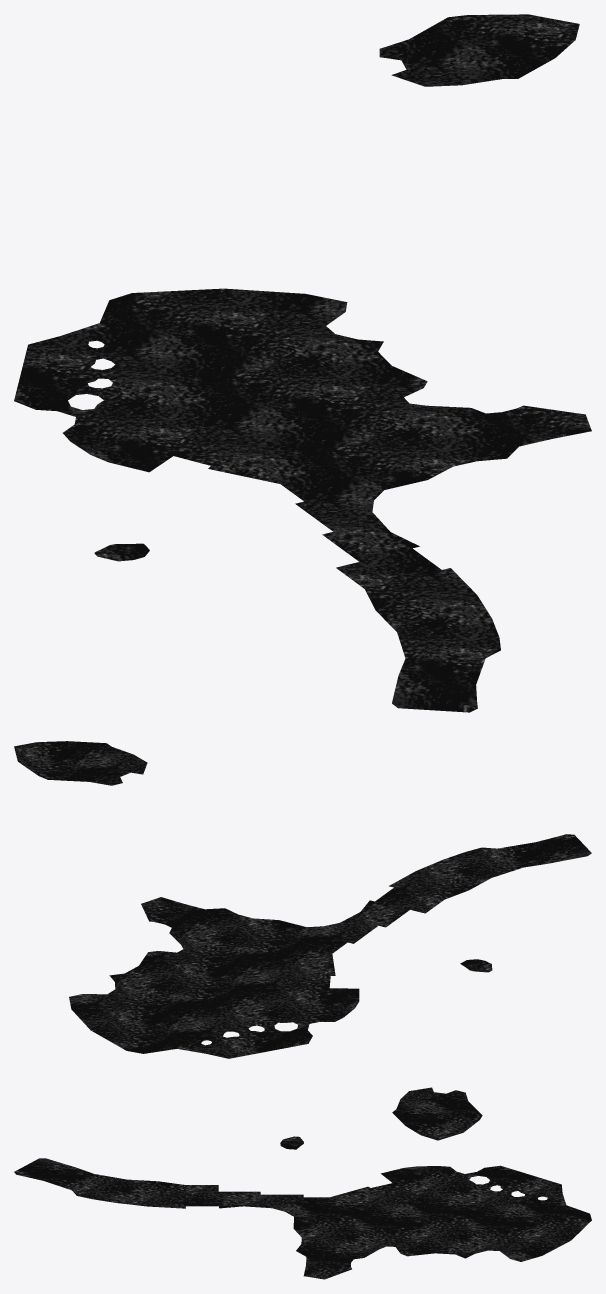
File: StageF000Water0.dae
3 views of the same model, one above another, from view 1: azimuth 30°, elevation 25°; view 2: azimuth 150°, elevation 25°; view 3: azimuth 270°, elevation 25° (orthographic). The views are drawn at different scales.
Visible parts, largest first — view 1: polygon0; view 2: polygon0; view 3: polygon0.
Part boxes in pixels (box(x1,y1,x2,y2)): polygon0: box(14, 14, 591, 712); polygon0: box(14, 741, 591, 1058); polygon0: box(14, 1087, 591, 1279).
Bounding box in the file's own units: 90.01 × 131 × 41.39.
